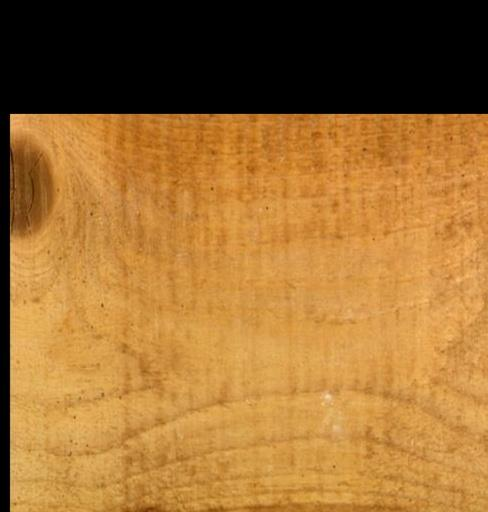sound_knot: (8, 134, 55, 244)
